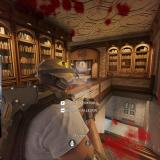Character: (0, 57, 110, 160), (75, 68, 80, 78)
